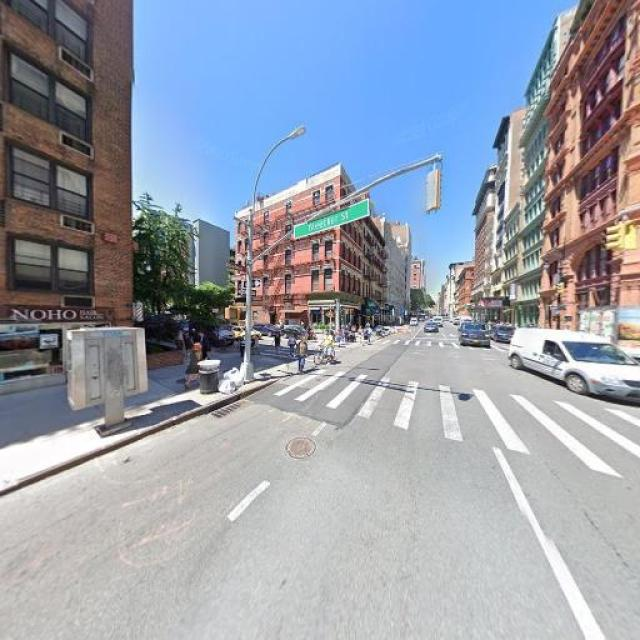Building: (1, 1, 127, 388), (550, 1, 640, 353), (235, 162, 362, 334)
